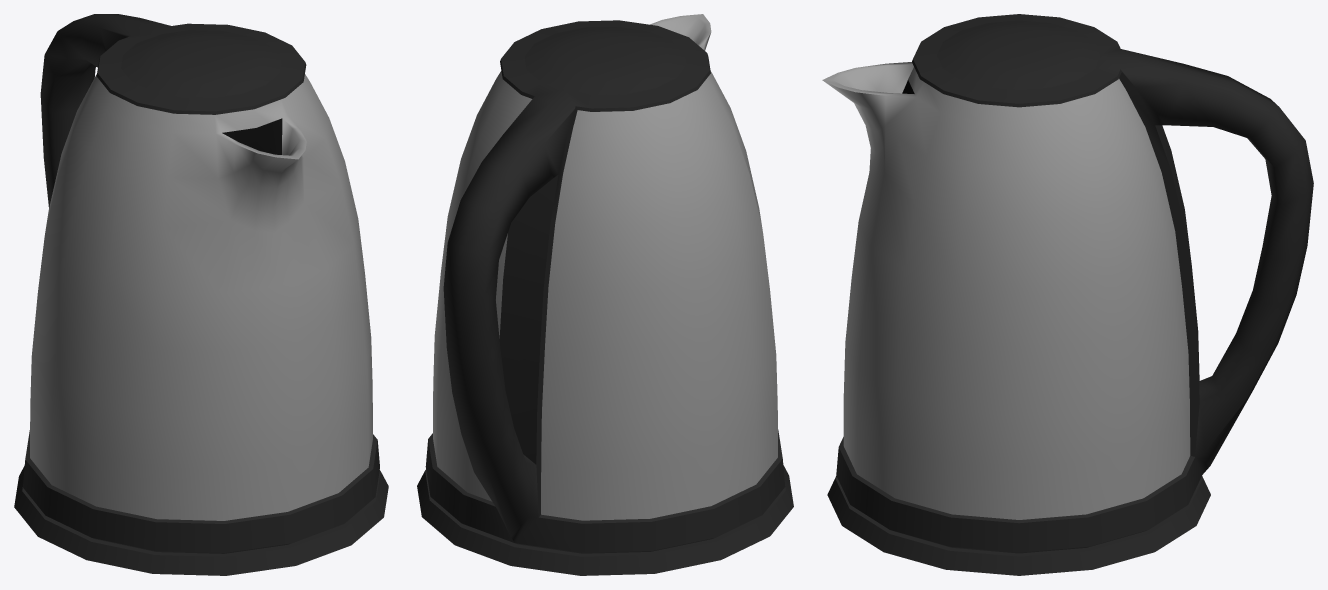
File: Kettle_01.fbx
The picture shows the model from 3 angles, left to right: view 1: azimuth 30°, elevation 25°; view 2: azimuth 150°, elevation 25°; view 3: azimuth 270°, elevation 25°; orthographic projection.
Parts seen in each view (by area): view 1: Kettle; view 2: Kettle; view 3: Kettle.
Part boxes in pixels (box(x1,y1,x2,y2)): Kettle: box(14, 14, 388, 575); Kettle: box(417, 14, 793, 575); Kettle: box(822, 14, 1313, 575).
Size of the model in its own units: 17.09 by 22.07 by 21.89.
